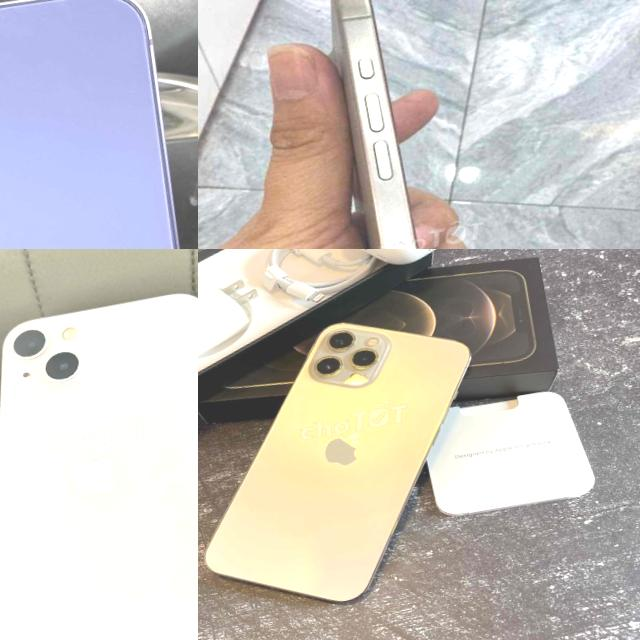gen_12_13: (198, 298, 512, 623), (0, 274, 198, 640), (0, 0, 198, 249)
gen_15: (270, 0, 511, 249)
